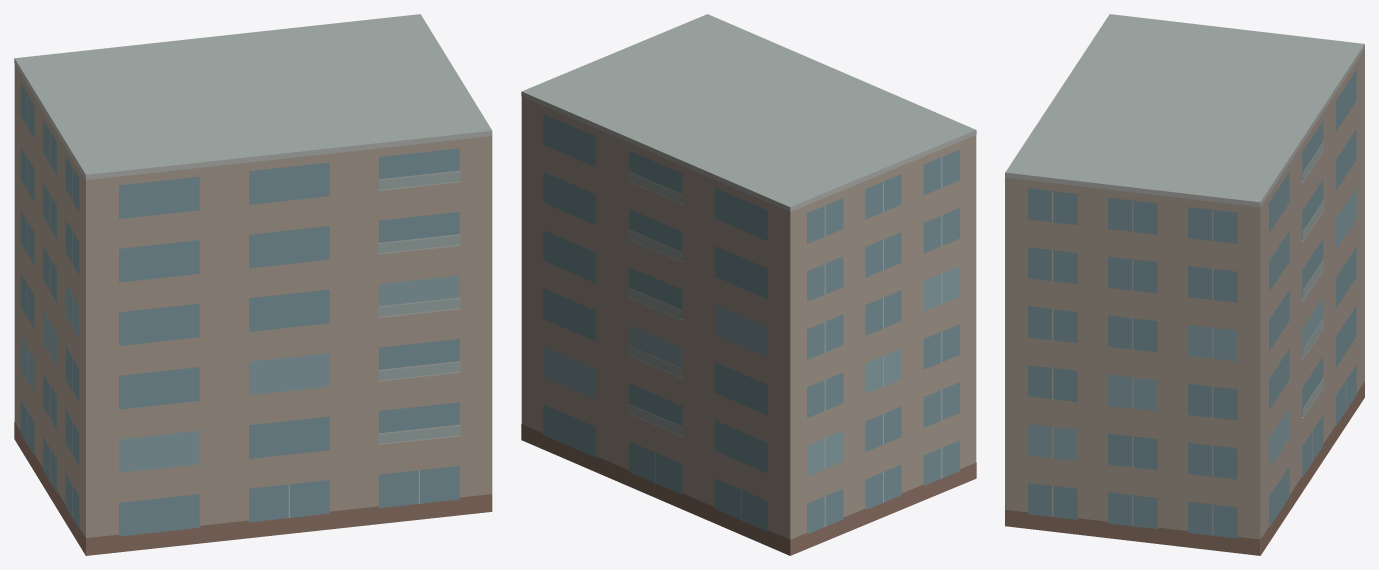
File: survey-upis-32736792.glb
The picture shows the model from 3 angles, left to right: view 1: azimuth 30°, elevation 25°; view 2: azimuth 150°, elevation 25°; view 3: azimuth 270°, elevation 25°; orthographic projection. The views are drawn at different scales.
Visible parts, largest first — view 1: survey-upis-32736792.tmp; view 2: survey-upis-32736792.tmp; view 3: survey-upis-32736792.tmp.
Part boxes in pixels (x1,y1,x2,y2): survey-upis-32736792.tmp: [14, 14, 492, 555]; survey-upis-32736792.tmp: [521, 14, 976, 555]; survey-upis-32736792.tmp: [1005, 14, 1364, 555].
Size of the model in its own units: 19.89 by 17.4 by 16.05.
